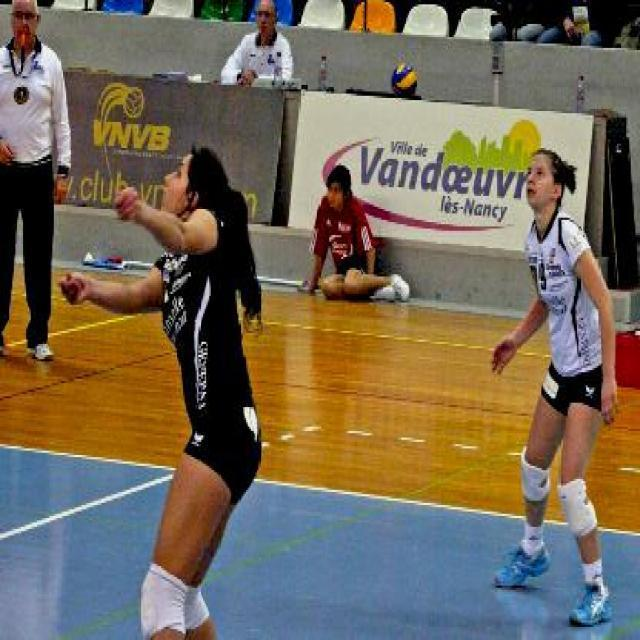volleyball: (392, 64, 418, 98)
